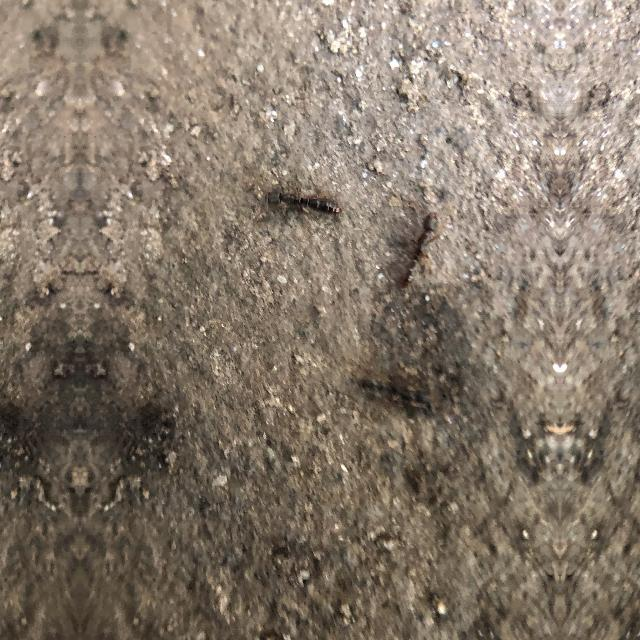Ponera: (242, 176, 346, 227), (398, 198, 442, 292)
